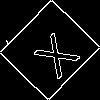X: (25, 25, 81, 80)
